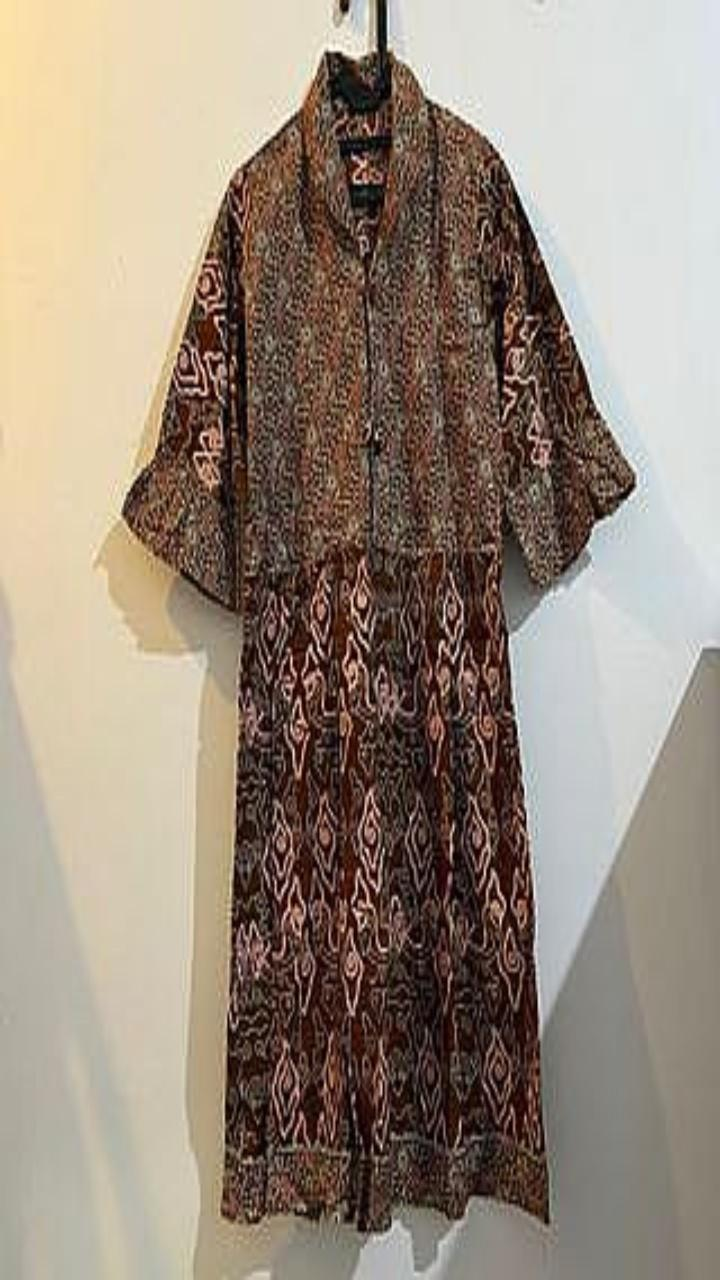Coat: (122, 50, 635, 1230)
